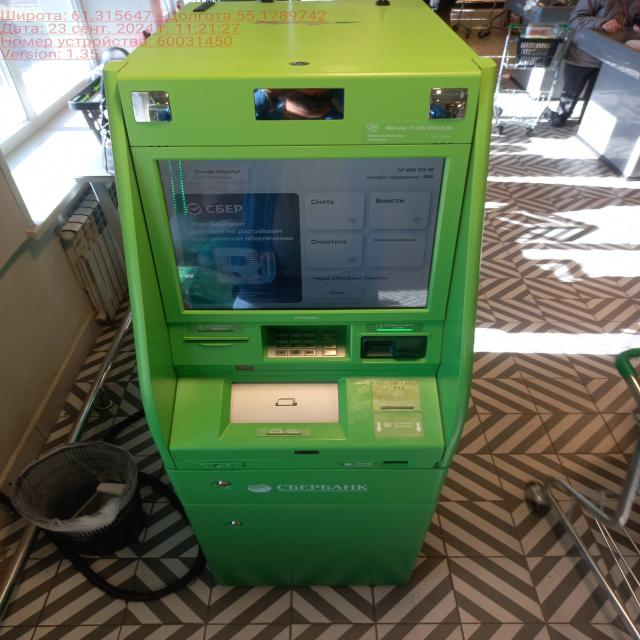bank: (98, 0, 496, 589)
